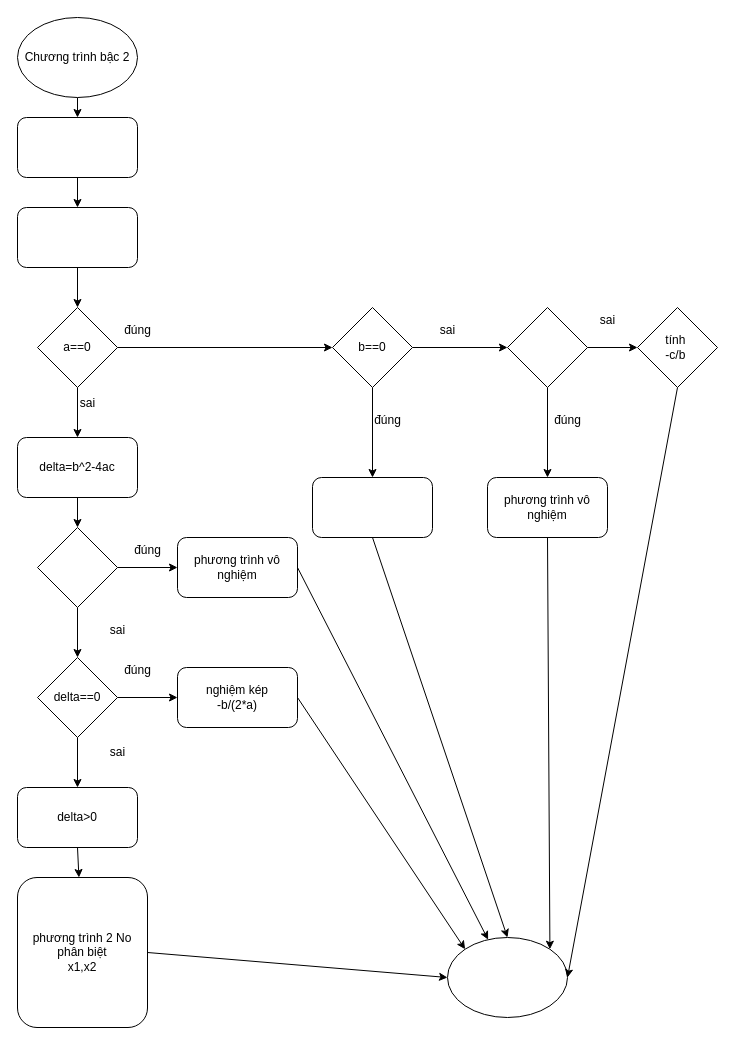
Some shapes in this 735 by 1045 pixel diagram are drawn without their labels. The shapes that lost their labels are listed below. From the top down, each one's centre as x and y in pixels, then its label:
At pixel 77 147: "khai báo a,b,c".
At pixel 77 237: "nhập biến a,b,c".
At pixel 547 347: "b!=0".
At pixel 372 507: "phương trình vô số nghiệm".
At pixel 77 567: "delta<0".
At pixel 507 977: "kết thúc".
